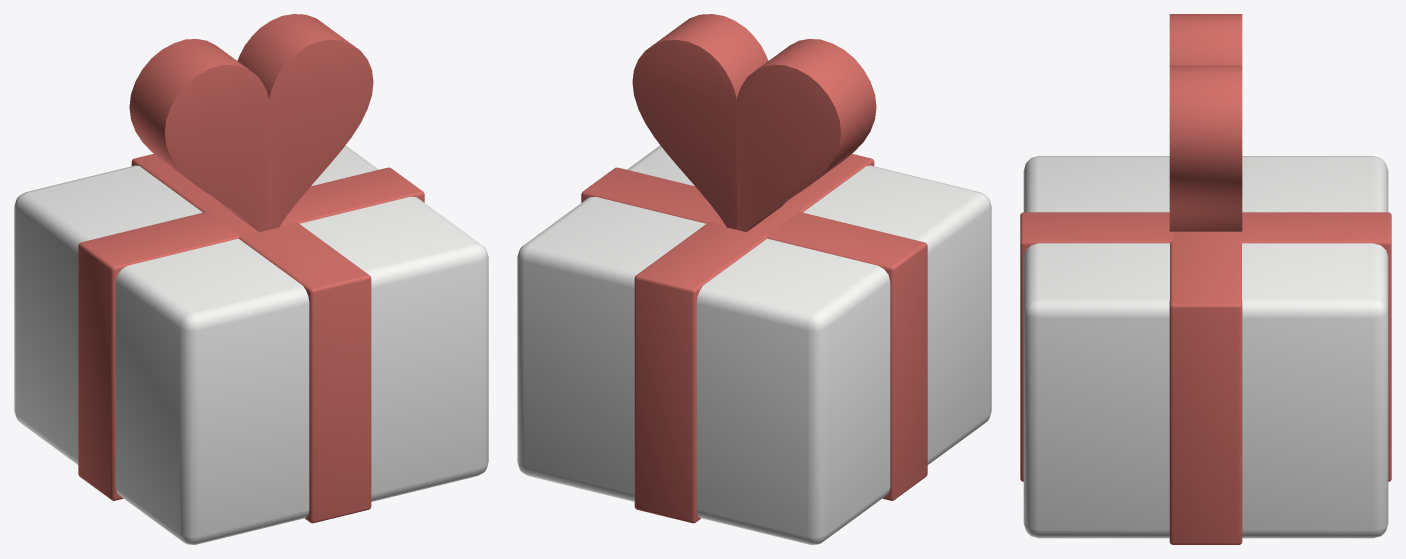
The model's file is links--sponsors.glb.
3 views of the same model, side by side, from view 1: azimuth 30°, elevation 25°; view 2: azimuth 150°, elevation 25°; view 3: azimuth 270°, elevation 25° (orthographic). The views are drawn at different scales.
Parts seen in each view (by area): view 1: links--sponsors; view 2: links--sponsors; view 3: links--sponsors.
Part boxes in pixels (box(x1,y1,x2,y2)): links--sponsors: box(14, 14, 488, 544); links--sponsors: box(517, 14, 991, 544); links--sponsors: box(1020, 14, 1391, 544).
Bounding box in the file's own units: 0.5098 × 0.6392 × 0.5098.
